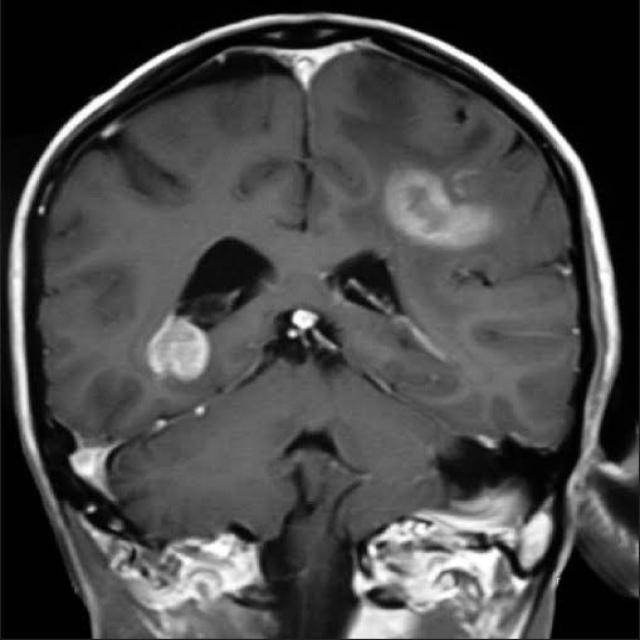glioma: (151, 225, 278, 384), (303, 236, 415, 316)
